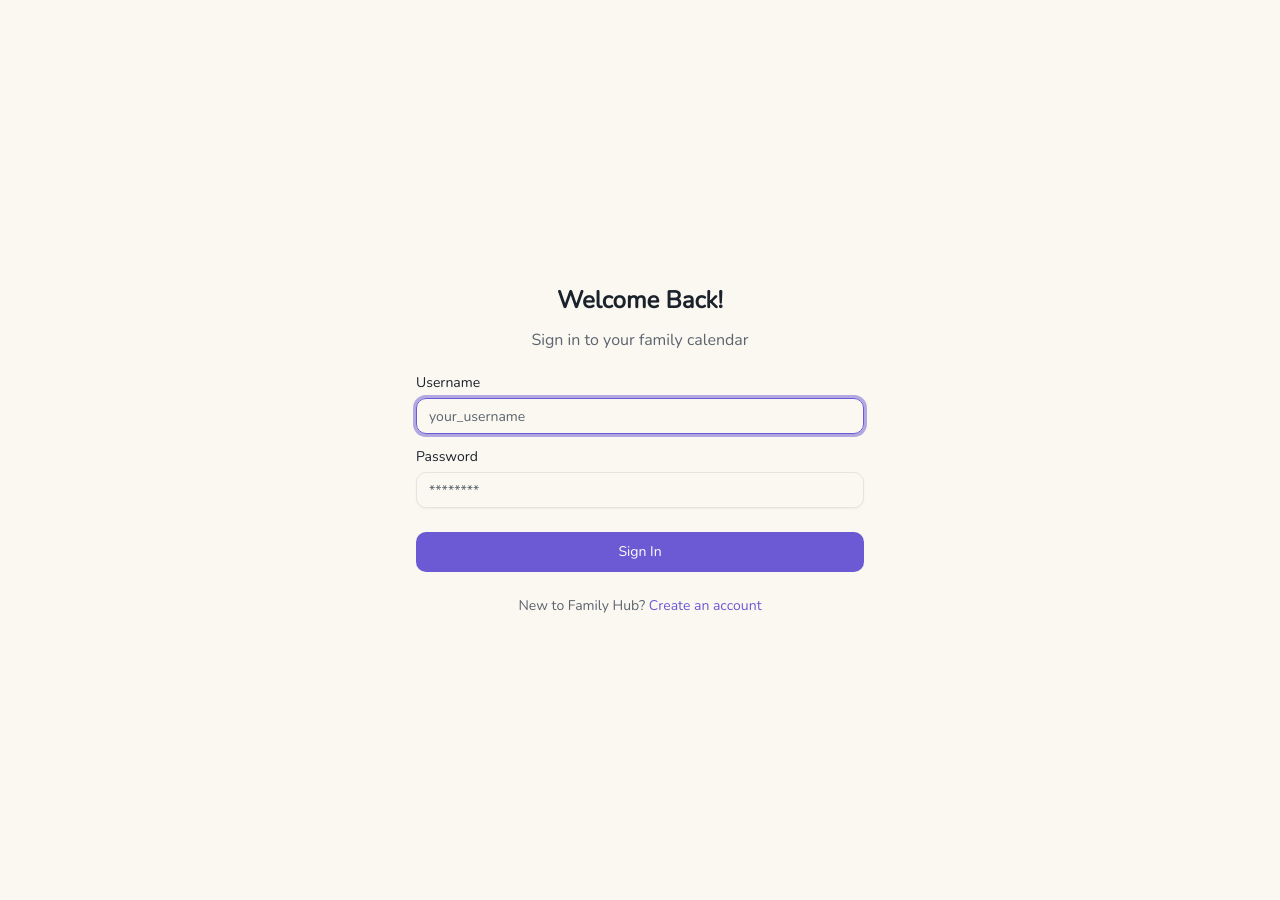
Scenario: App › navigates to onboarding when Create an account is clicked
Check: the heading "Welcome Back!" is shown, box [557,284,723,316]
Click Create an account link
What coordinates should you click on to do the following:
click the button "Create an account"
I would click on:
 (705, 606)
Its box is [649,596,762,616].
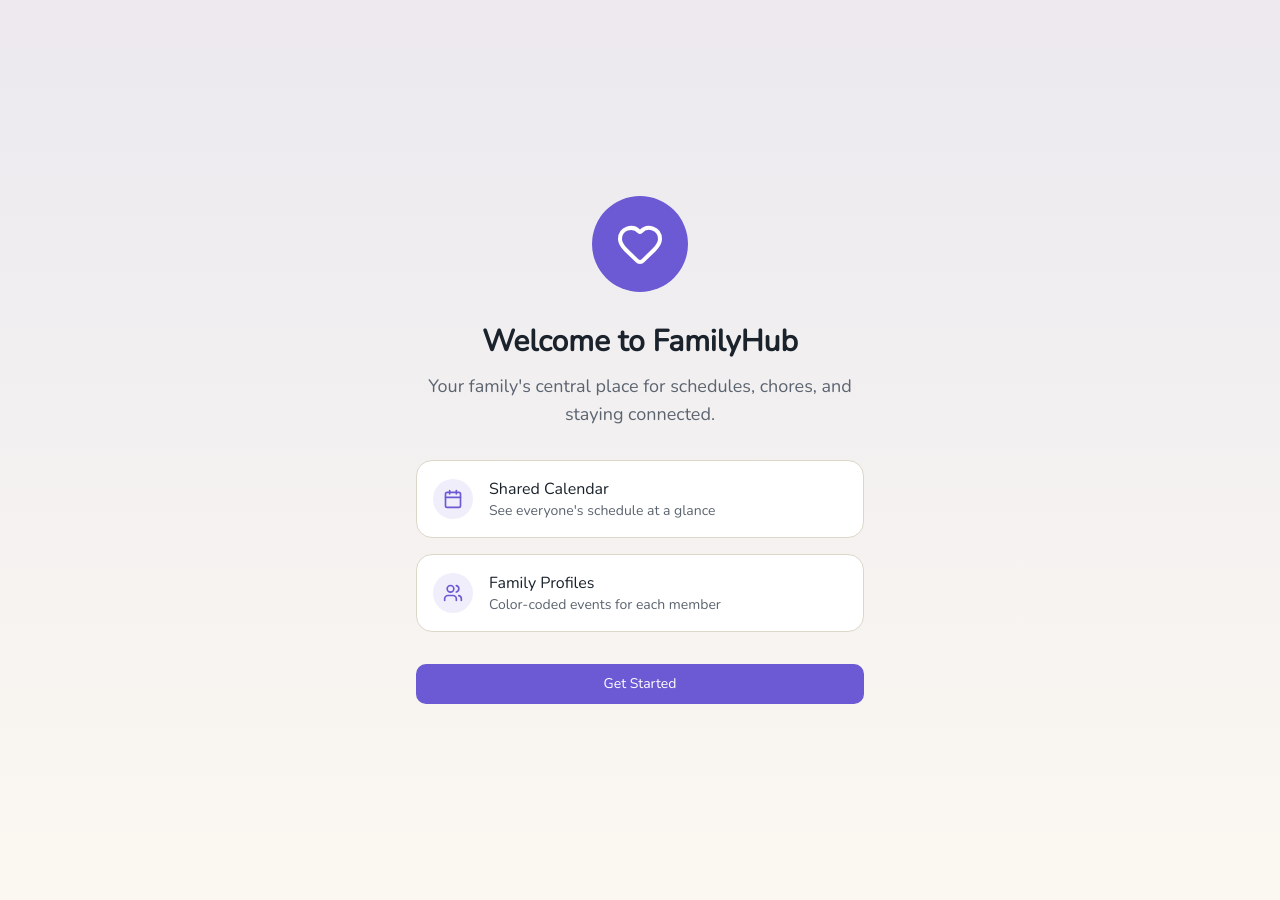
Check: the heading "Welcome to FamilyHub" is shown, box [482,321,798,362]
Check: the button "Get Started" is shown, box [416,664,864,704]
